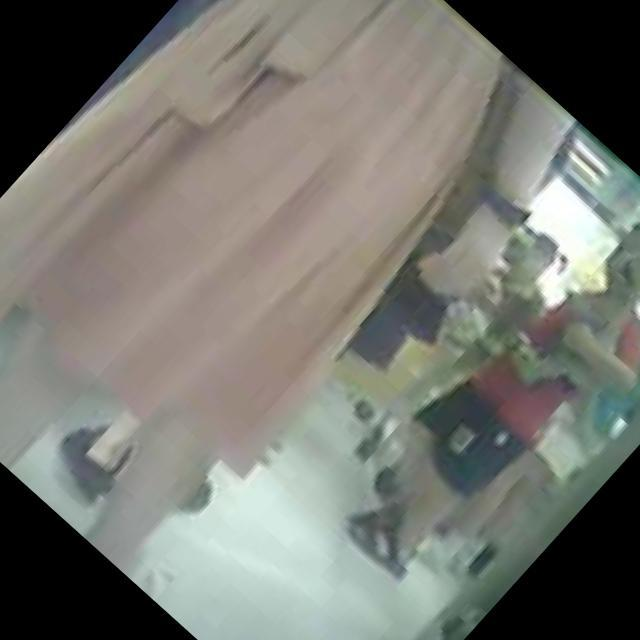person: (0, 0, 602, 619), (320, 180, 640, 621), (409, 249, 640, 595), (438, 222, 588, 378)
